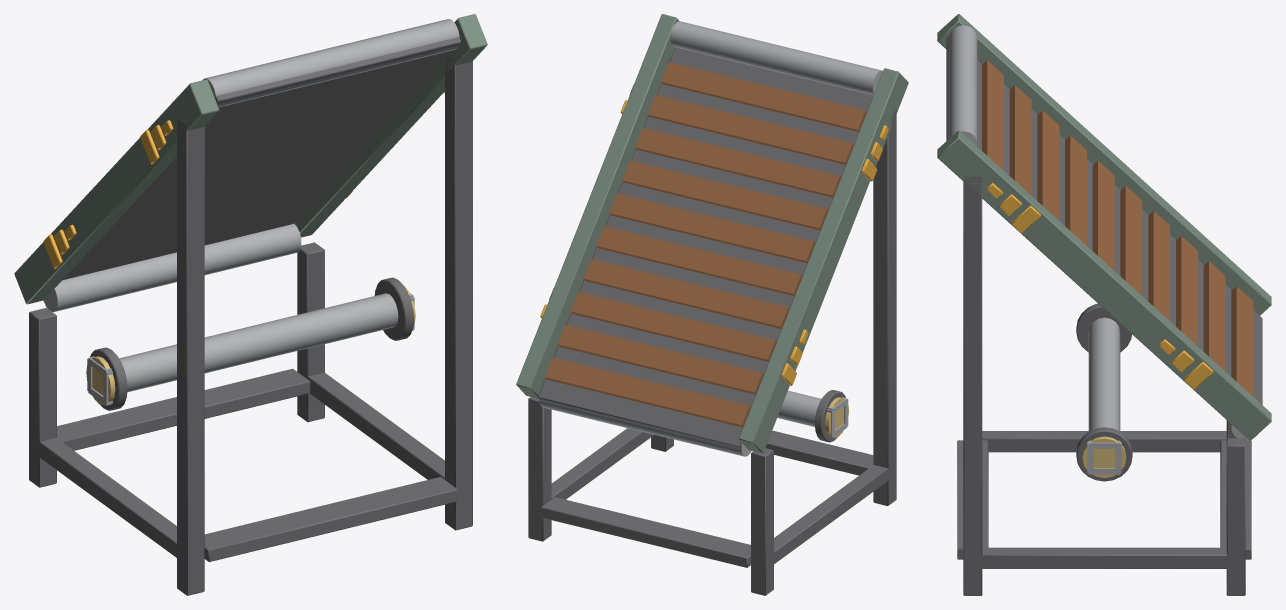
File: feConveyorRamp.fbx
3 renders of one model, left to right at view 1: azimuth 30°, elevation 25°; view 2: azimuth 150°, elevation 25°; view 3: azimuth 270°, elevation 25°, orthographic. The views are drawn at different scales.
Parts seen in each view (by area): view 1: feConveyorRamp_Base, FeSpin_BeltDrive.001, FeSpin_BeltRollerBack.001, FeSpin_BeltRollerFront.001; view 2: feConveyorRamp_Base, FeBeltSlats.001, FeSpin_BeltRollerFront.001, FeSpin_BeltDrive.001, FeSpin_BeltRollerBack.001; view 3: feConveyorRamp_Base, FeBeltSlats.001, FeSpin_BeltDrive.001, FeSpin_BeltRollerFront.001.
Part boxes in pixels (left/top/right/bottom): feConveyorRamp_Base: left=14, top=14, right=487, bottom=595; FeSpin_BeltDrive.001: left=86, top=285, right=415, bottom=405; FeSpin_BeltRollerBack.001: left=43, top=223, right=301, bottom=312; FeSpin_BeltRollerFront.001: left=202, top=19, right=459, bottom=107; feConveyorRamp_Base: left=516, top=14, right=908, bottom=595; FeBeltSlats.001: left=545, top=62, right=866, bottom=427; FeSpin_BeltRollerFront.001: left=670, top=21, right=882, bottom=95; FeSpin_BeltDrive.001: left=777, top=390, right=848, bottom=437; FeSpin_BeltRollerBack.001: left=539, top=399, right=751, bottom=456; feConveyorRamp_Base: left=937, top=14, right=1271, bottom=595; FeBeltSlats.001: left=982, top=60, right=1253, bottom=396; FeSpin_BeltDrive.001: left=1082, top=317, right=1126, bottom=477; FeSpin_BeltRollerFront.001: left=949, top=25, right=977, bottom=146.
Bounding box in the file's own units: 1.01 × 1.61 × 1.07.
